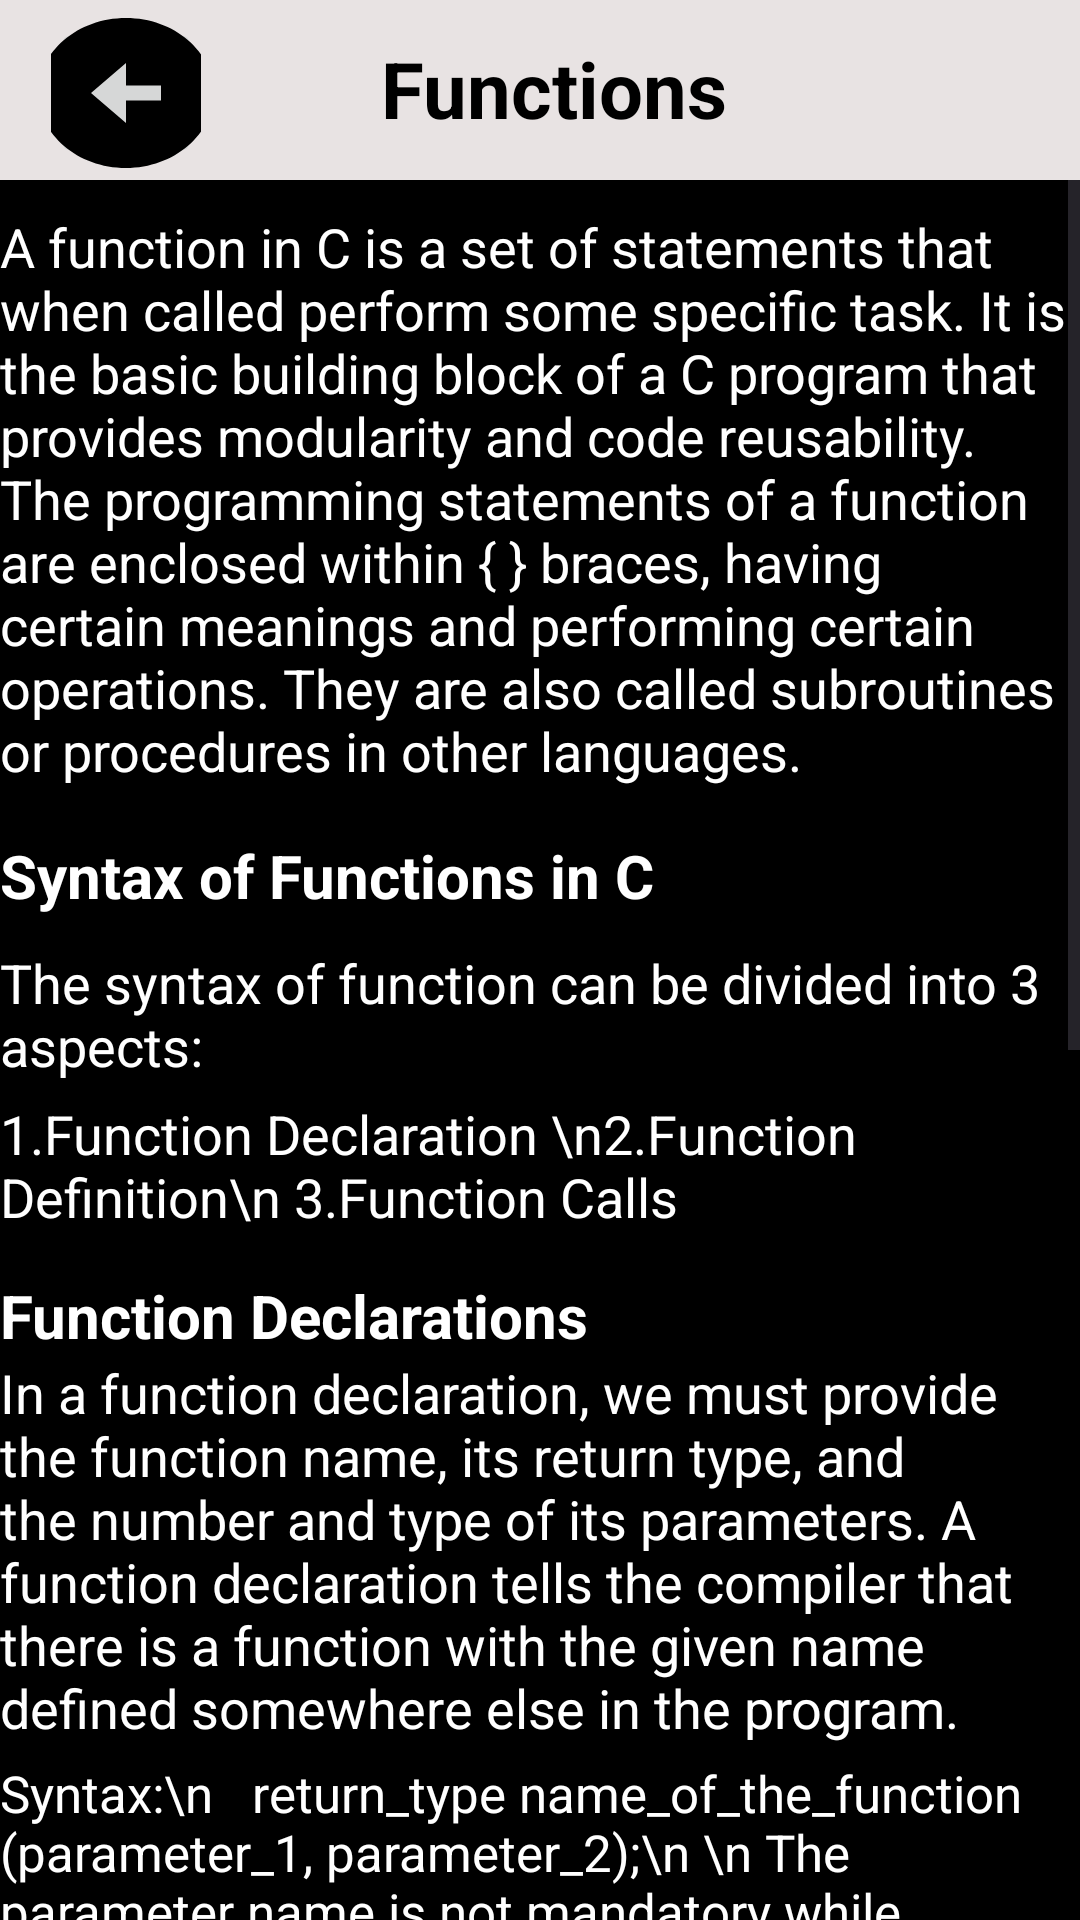

Where to tap for icons on this 1080×1920 app screen, as [x,y]:
arrow circle left: [126,93]
